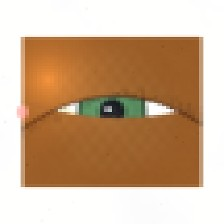pinguecula_lesion: (49, 99, 84, 126)
